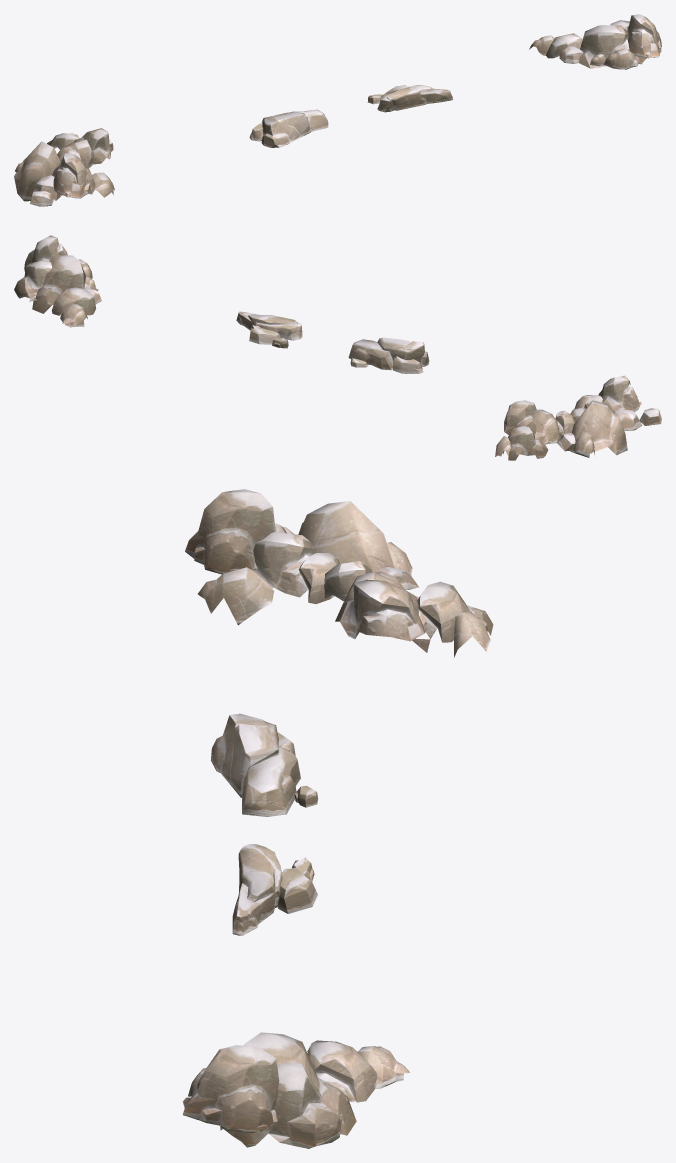
The model's file is pref_sm_beach_bk_winter_pointmol_rock_D01_lv0.fbx.
3 views of the same model, one above another, from view 1: azimuth 30°, elevation 25°; view 2: azimuth 150°, elevation 25°; view 3: azimuth 270°, elevation 25° (orthographic). The views are drawn at different scales.
Parts seen in each view (by area): view 1: pref_sm_beach_bk_winter_pointmol_rock_D01_lv0; view 2: pref_sm_beach_bk_winter_pointmol_rock_D01_lv0; view 3: pref_sm_beach_bk_winter_pointmol_rock_D01_lv0.
Part boxes in pixels (x1,y1,x2,y2): pref_sm_beach_bk_winter_pointmol_rock_D01_lv0: (14,14,661,206); pref_sm_beach_bk_winter_pointmol_rock_D01_lv0: (14,235,661,460); pref_sm_beach_bk_winter_pointmol_rock_D01_lv0: (182,489,493,1148).
Size of the model in its own units: 53.38 by 4.35 by 11.38.
